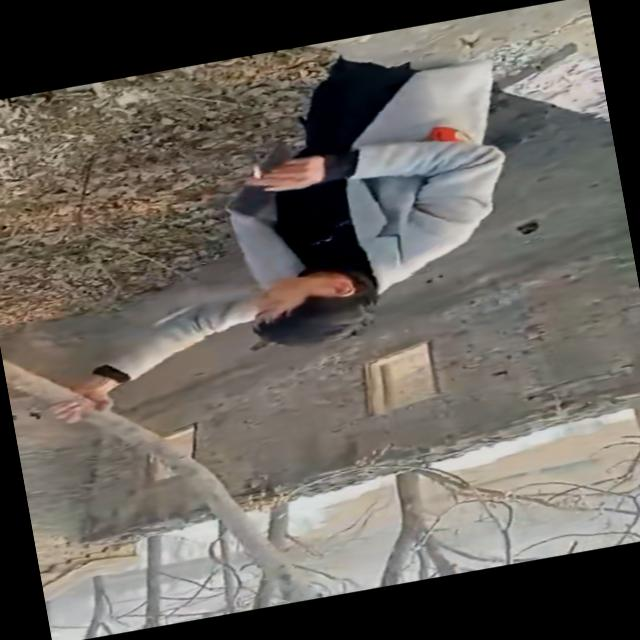cigarette: (226, 150, 286, 191)
